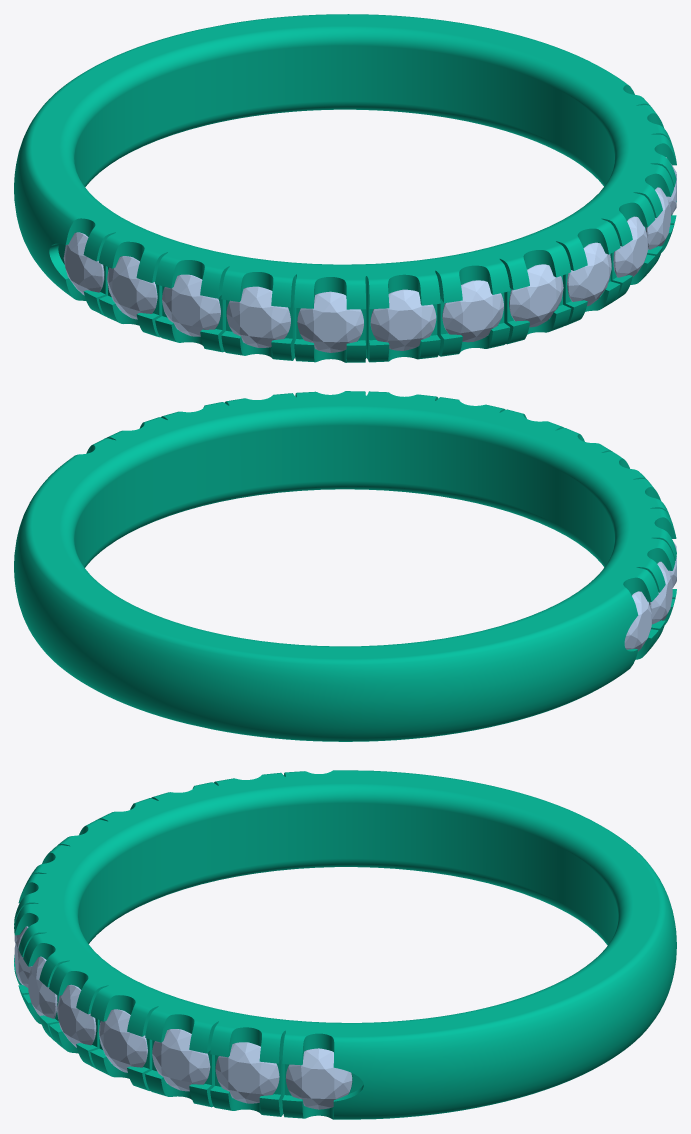
3 renders of one model, top to bottom at view 1: azimuth 30°, elevation 25°; view 2: azimuth 150°, elevation 25°; view 3: azimuth 270°, elevation 25°, orthographic.
Parts seen in each view (by area): view 1: VR440(base).3dm, Gem (×11); view 2: VR440(base).3dm, Gem (×2); view 3: VR440(base).3dm, Gem (×6).
Part boxes in pixels (left/top/right/bottom): VR440(base).3dm: left=14, top=14, right=676, bottom=362; Gem (×11): left=63, top=187, right=670, bottom=352; VR440(base).3dm: left=14, top=391, right=676, bottom=741; Gem (×2): left=624, top=561, right=672, bottom=651; VR440(base).3dm: left=14, top=770, right=676, bottom=1119; Gem (×6): left=28, top=956, right=352, bottom=1109.
Bounding box in the file's own units: 2.82 × 0.3906 × 2.81.
